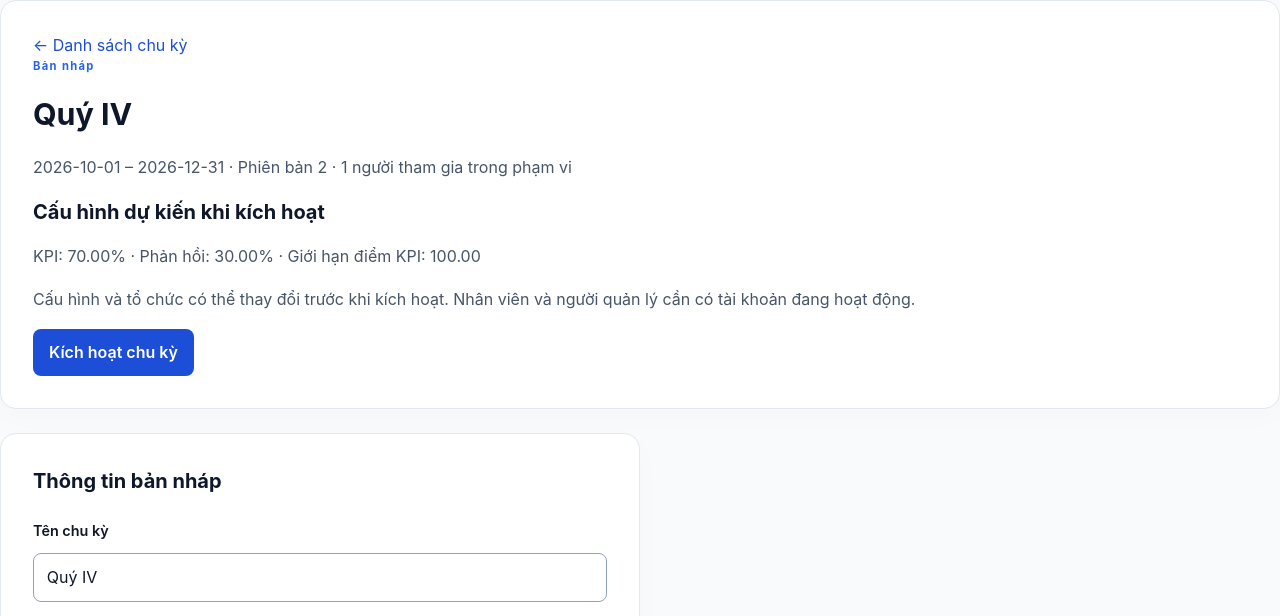
it: keeps cycle input after a failed save
Replace the text in the field labelled "Tên chu kỳ" with "Chưa lưu" at (320, 577), box x1=33 y1=553 x2=607 y2=602
(page scrolled)
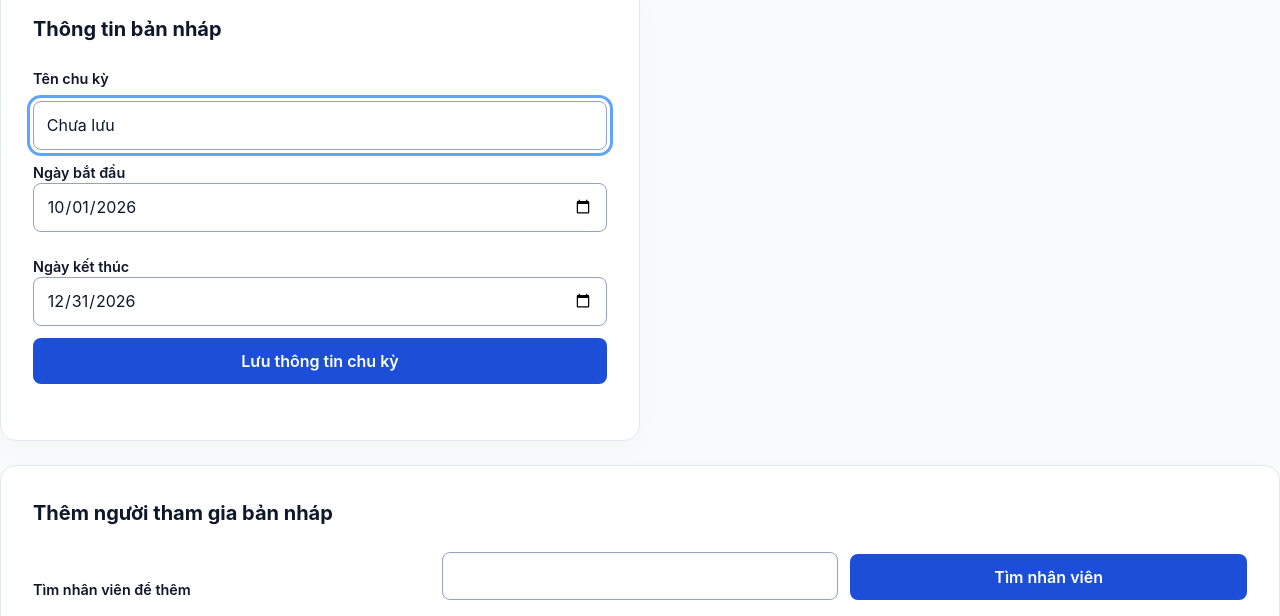
Click the button "Lưu thông tin chu kỳ" at (320, 361), box x1=33 y1=338 x2=607 y2=384
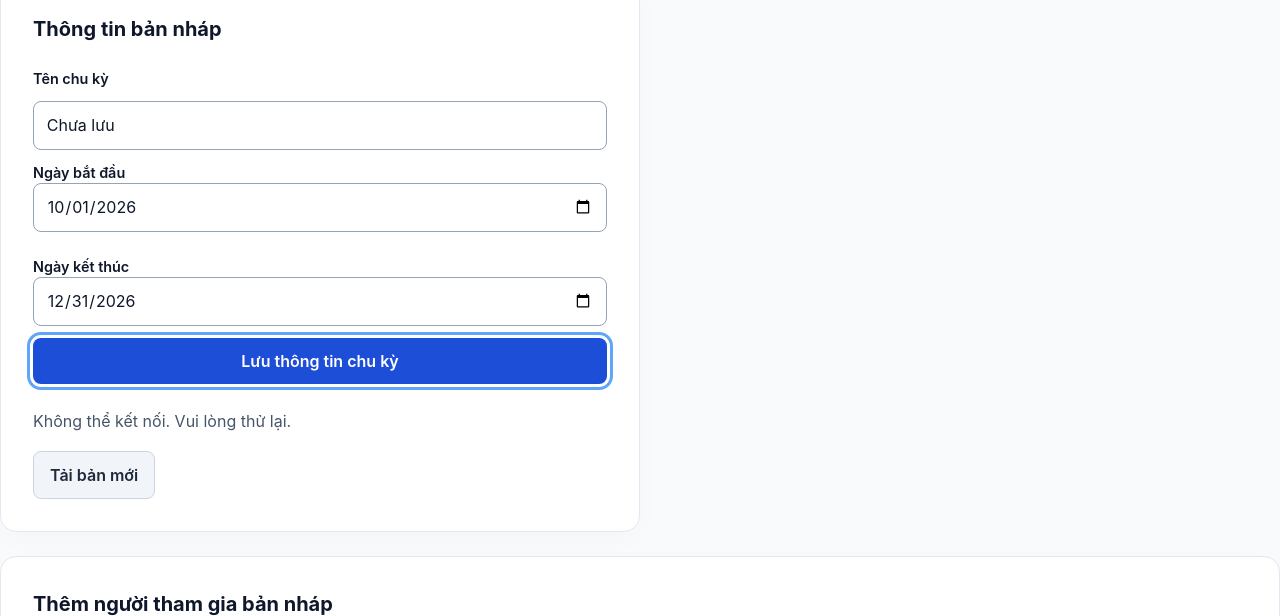
expect the message "Không thể kết nối. Vui lòng thử lại. Tải bản mới" is shown: met, box x1=33 y1=411 x2=291 y2=500
